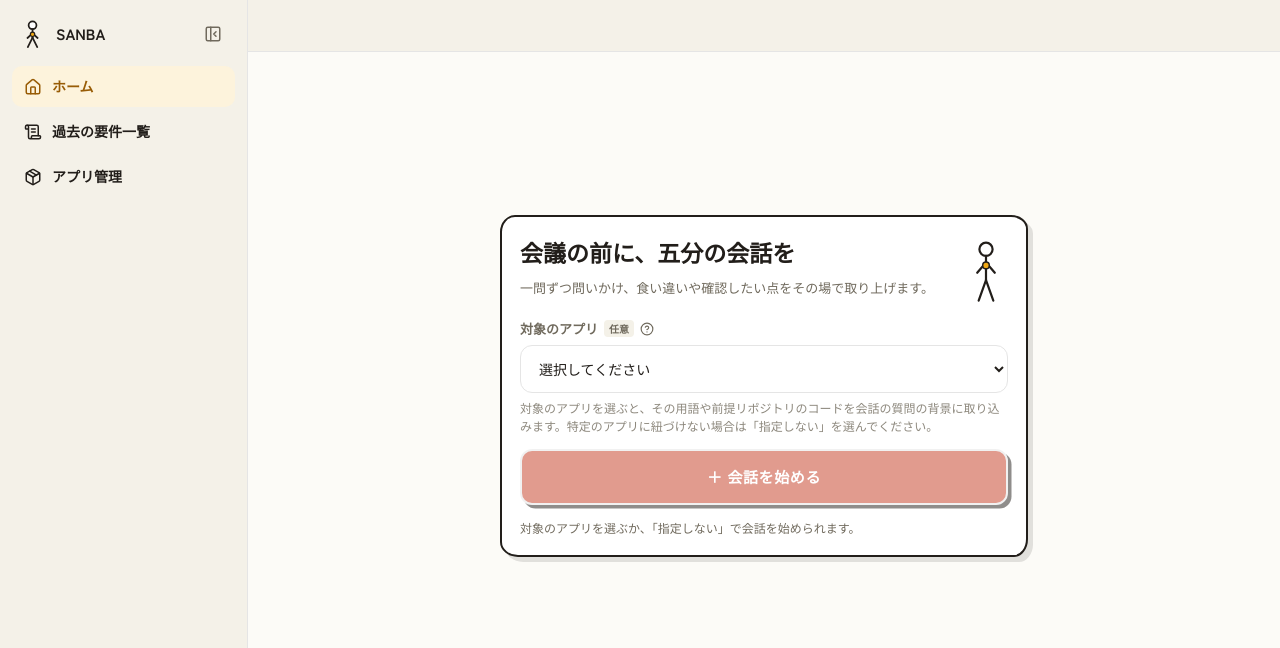
Test: 入口フロー（#140） › 「指定しない」で準備に入ると防衛線の巻き戻しは起きない（ADR-0071）
Select "指定しない" in the dropdown labelled "対象のアプリ" at (764, 368), box [520,344,1008,392]
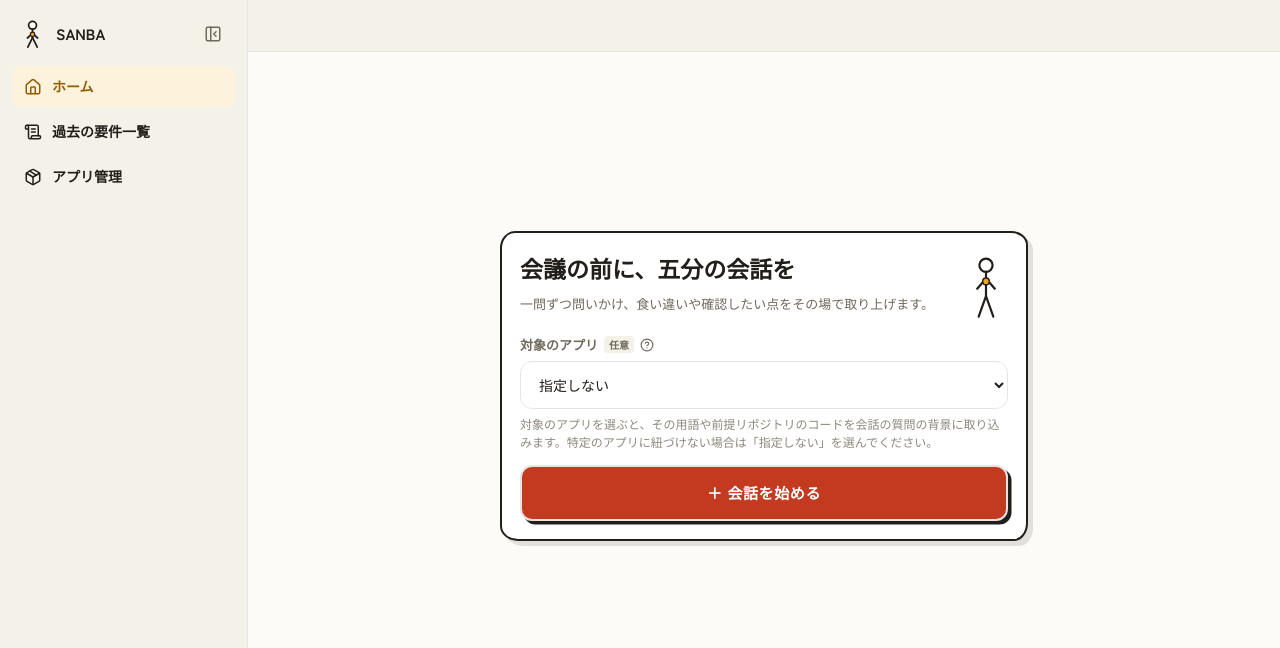
Click the button "＋ 会話を始める".
click(764, 493)  # box [520,464,1008,521]
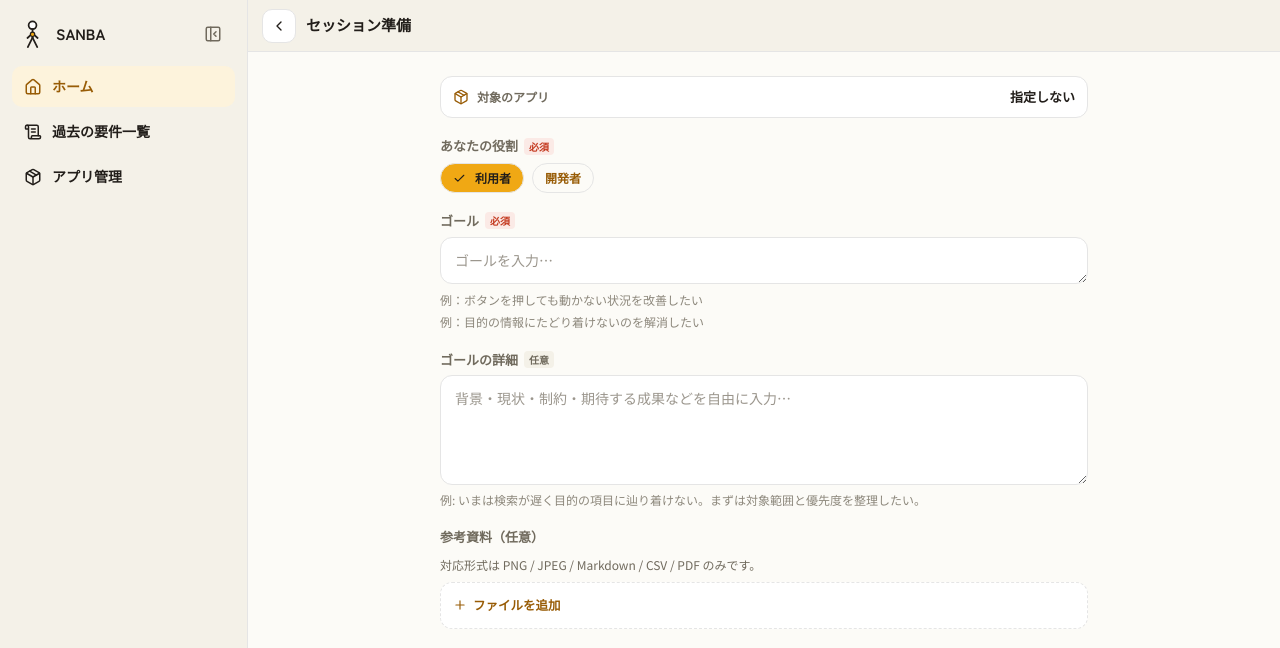
Expected: the heading "セッション準備" is shown, [306,14,411,37]
Expected: the heading "会議の前に、五分の会話を" is gone
